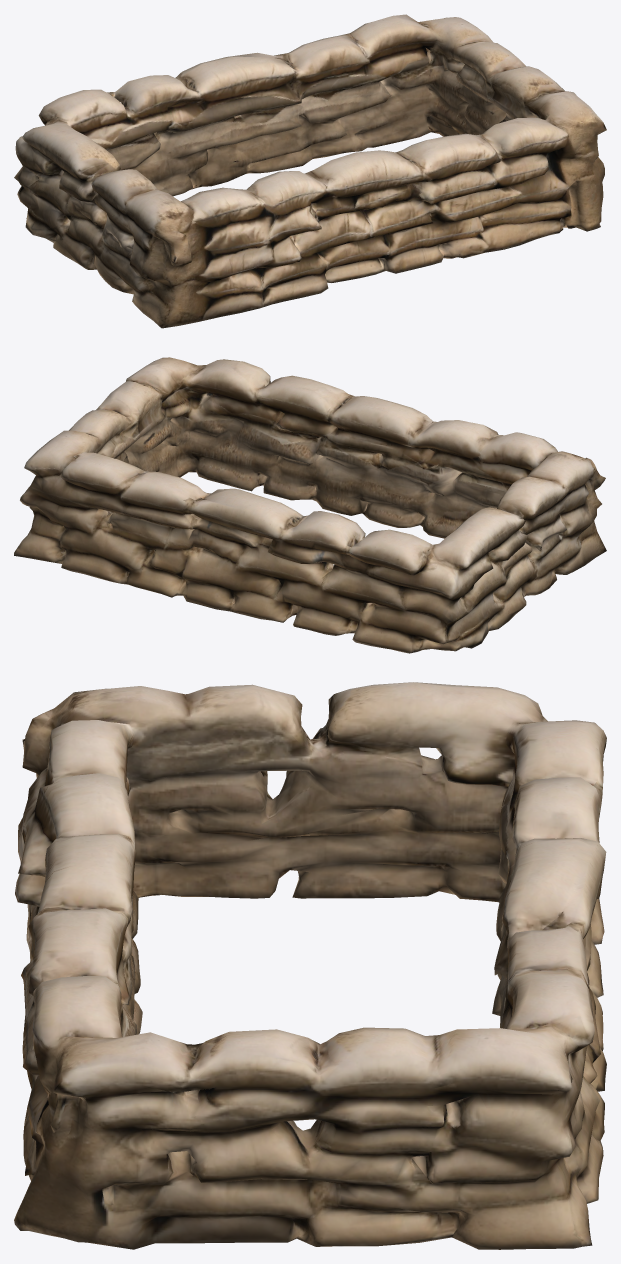
File: 39d5a14f-f97a-448d-baf2-ab9dc3887416.glb
The picture shows the model from 3 angles, top to bottom: view 1: azimuth 30°, elevation 25°; view 2: azimuth 150°, elevation 25°; view 3: azimuth 270°, elevation 25°; orthographic projection. The views are drawn at different scales.
Size of the model in its own units: 1.97 by 0.4504 by 1.25.
Materials: 1 (1 with a texture image).
